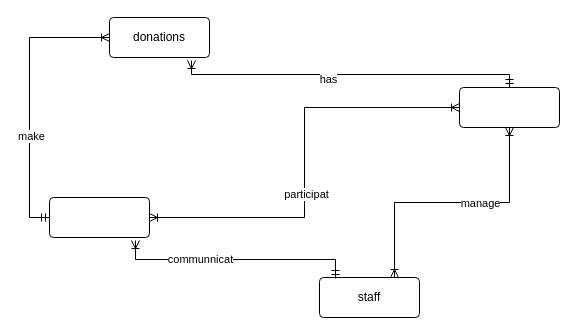
Some shapes in this 577 by 335 pixel diagram are drawn without their labels. The box of each missing label's shape, as (x1, y1, x2, y2) in pixels:
donor: (48, 196, 150, 238)
events: (458, 86, 560, 128)
